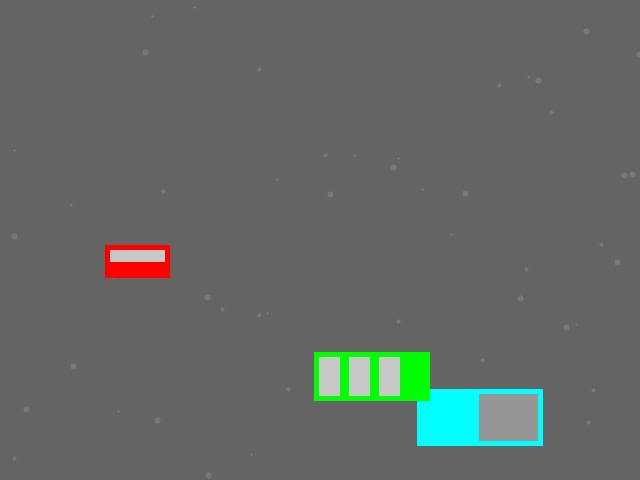bus: (314, 352, 429, 400)
car: (105, 245, 169, 277)
truck: (417, 389, 542, 445)
